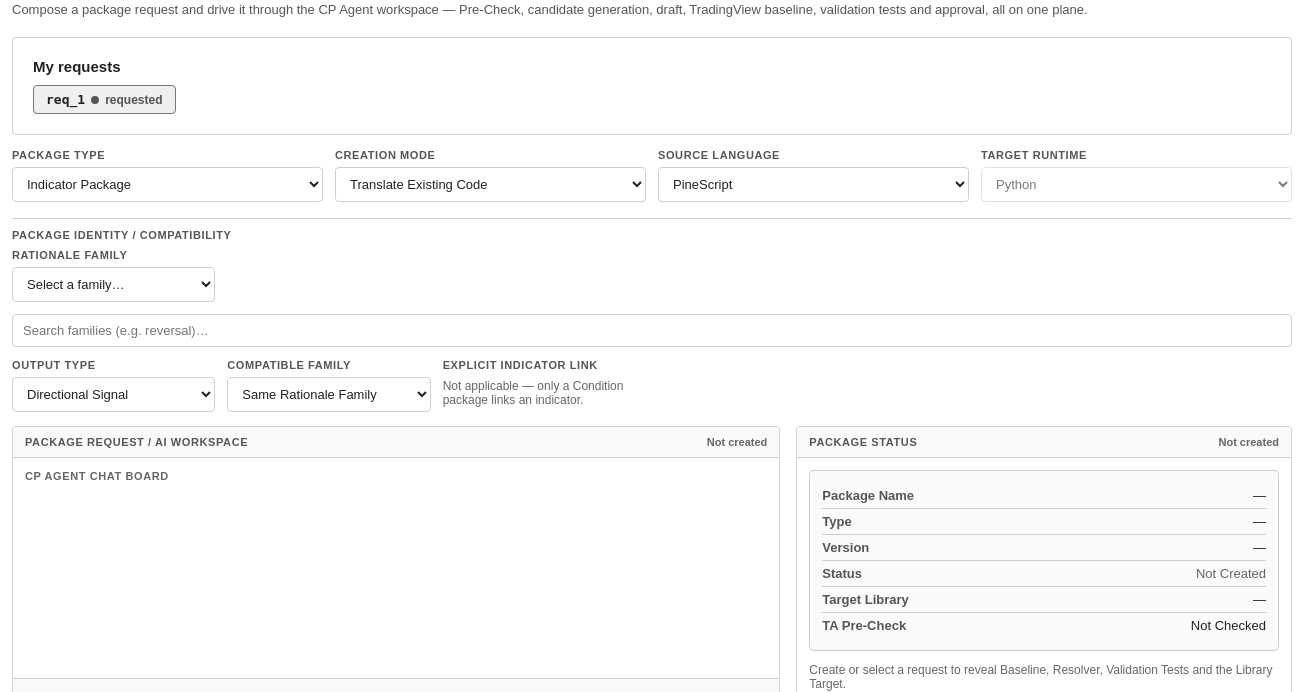
Test: Create Package page › admits a durable generation job instead of chaining a draft
Check: the text "req_1" is shown, box 46,92 -> 85,107
Click the button "req_1 requested" at coordinates (104, 100), box 33,85 -> 176,114
(page scrolled)
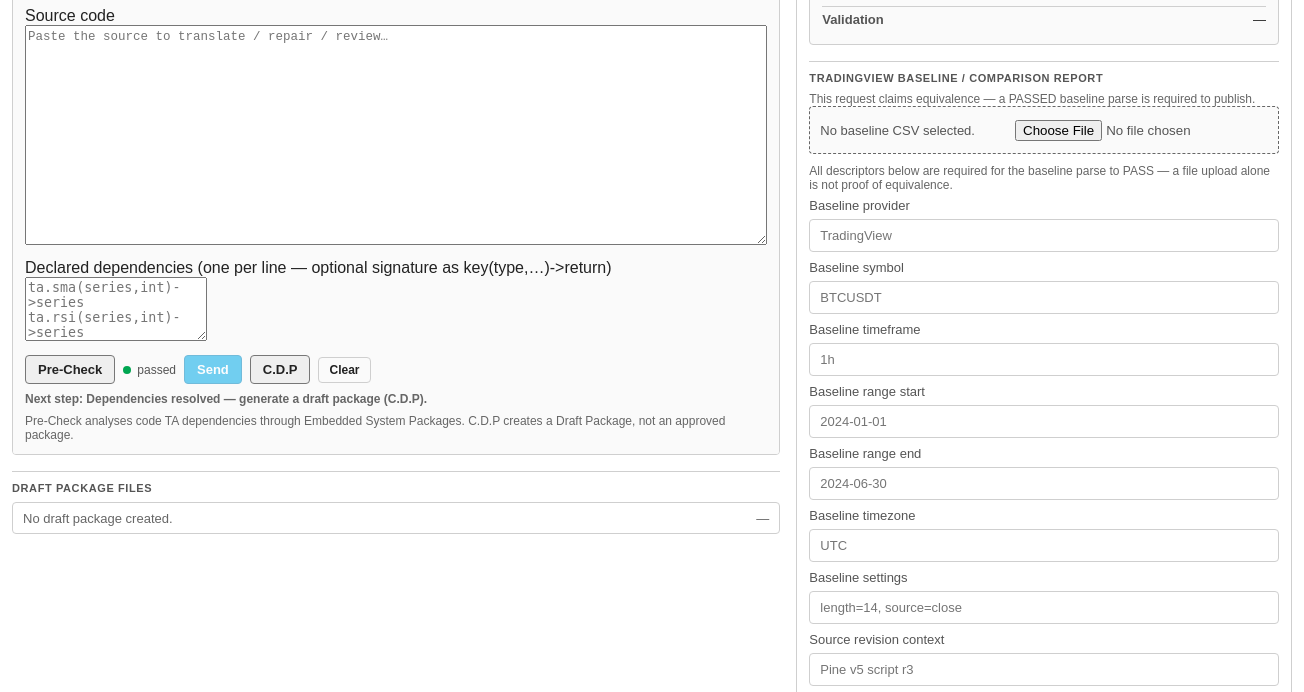
Check: the button "C.D.P" is enabled
Click the button "C.D.P" at coordinates (280, 370), box 250,355 -> 310,384
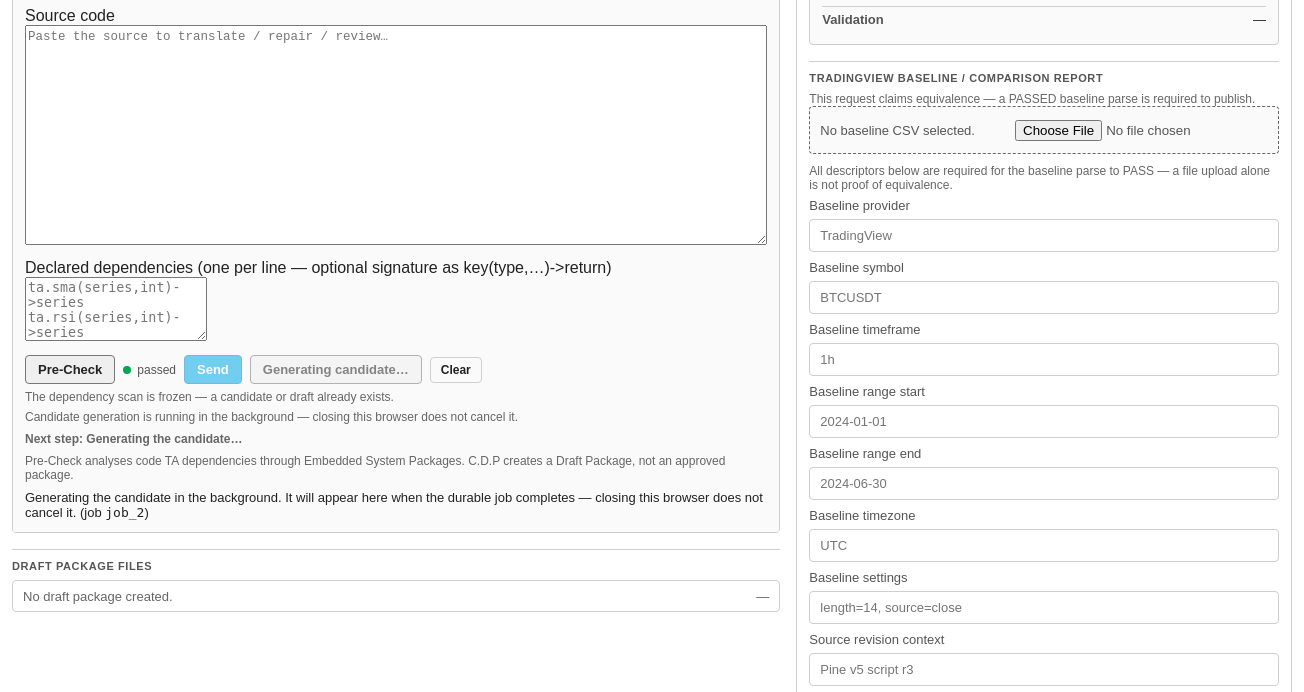
Check: the text "Generating the candidate in the background" is shown, box 25,490 -> 763,520
Check: the button "Generating candidate…" is disabled, box 250,355 -> 422,384
